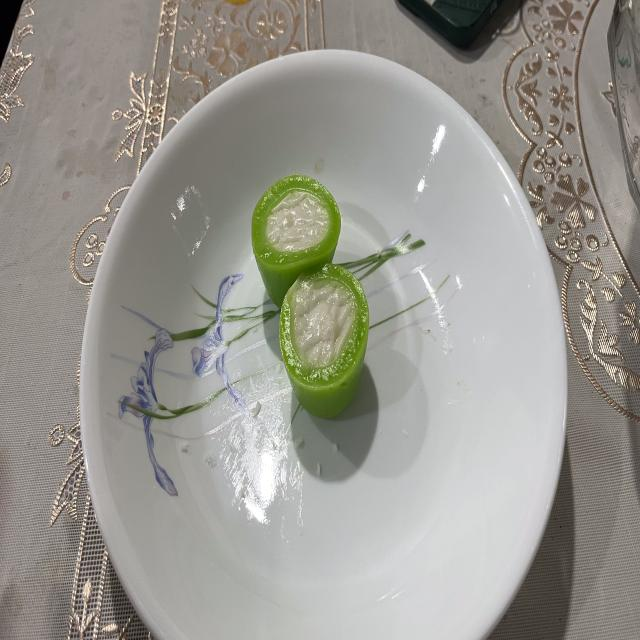nona-manis: (280, 264, 369, 418), (251, 176, 341, 307)
